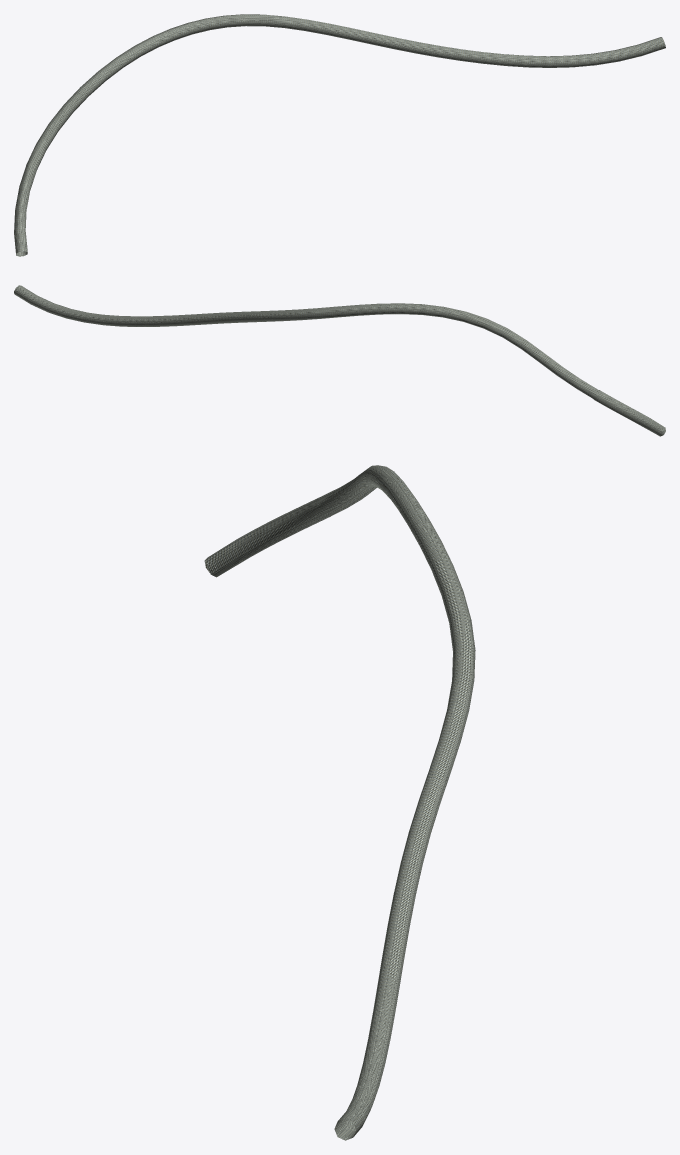
File: microtubule50.fbx
The picture shows the model from 3 angles, top to bottom: view 1: azimuth 30°, elevation 25°; view 2: azimuth 150°, elevation 25°; view 3: azimuth 270°, elevation 25°; orthographic projection. The views are drawn at different scales.
Parts seen in each view (by area): view 1: microtubule50; view 2: microtubule50; view 3: microtubule50.
Part boxes in pixels (bbox=[...]): microtubule50: bbox=[14, 14, 665, 256]; microtubule50: bbox=[14, 285, 665, 436]; microtubule50: bbox=[204, 465, 475, 1140].
Size of the model in its own units: 9455 by 1797 by 1799.
1 material, 1 textured.
